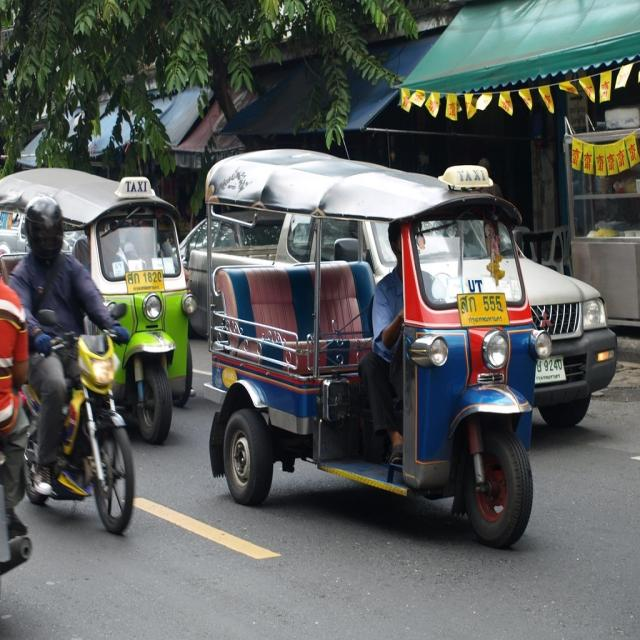plate: (457, 292, 513, 329), (125, 271, 169, 294), (532, 358, 567, 382)
